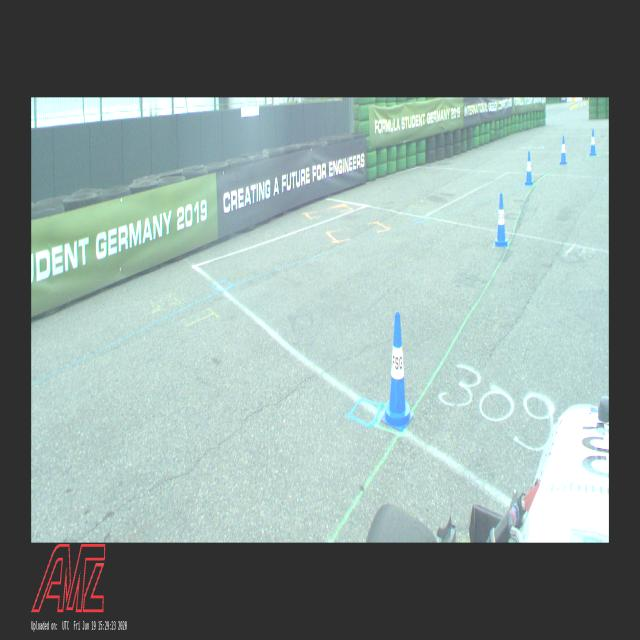blue_cone: (381, 312, 413, 432), (495, 194, 507, 247), (525, 152, 533, 184), (560, 136, 566, 164), (590, 130, 596, 156)
yellow_cone: (570, 103, 572, 109), (572, 102, 574, 108), (574, 101, 576, 107)
